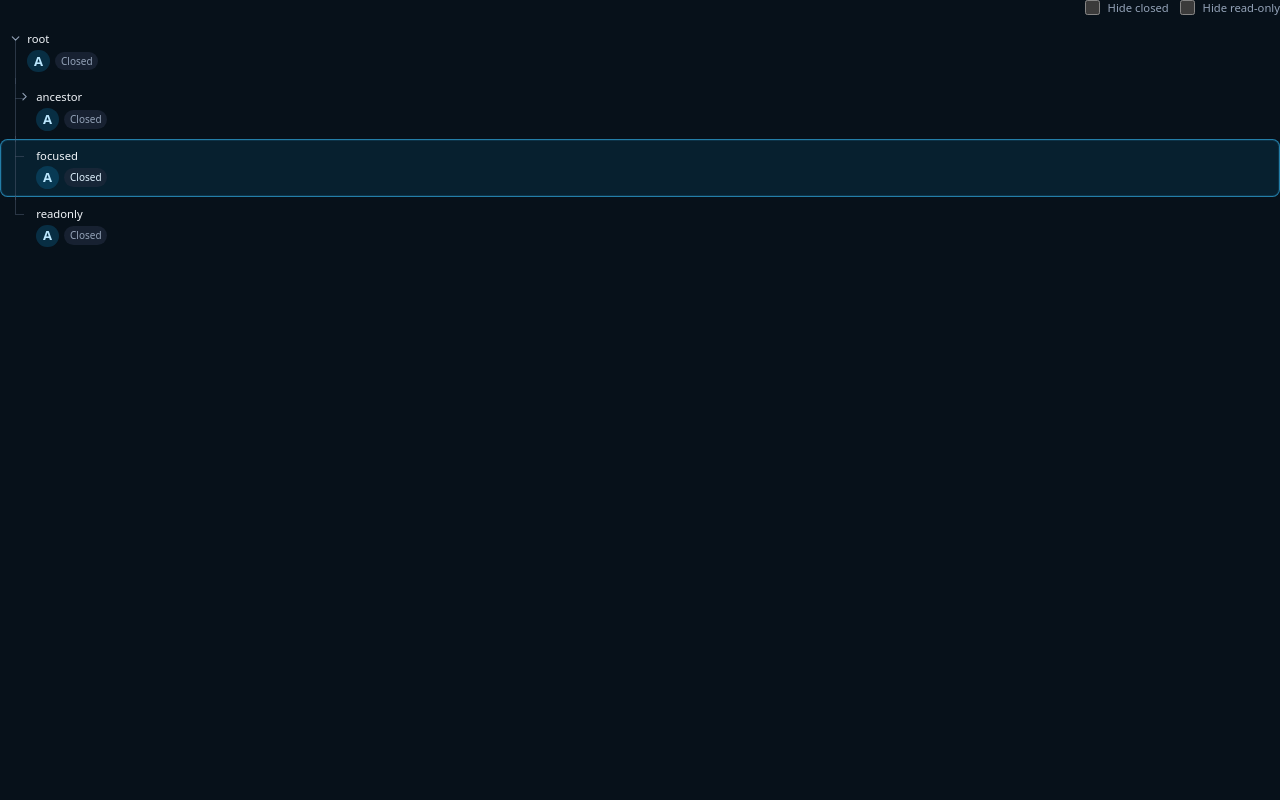
ActivityTree › hides read-only leaves but keeps root, focused sessions, and required ancestors
# root auto-expands because the focused session is its descendant.
What coordinates should you click on to do the following:
click the checkbox labelled "Hide read-only"
I would click on:
 (1188, 8)
Its box is [1180,0,1195,15].
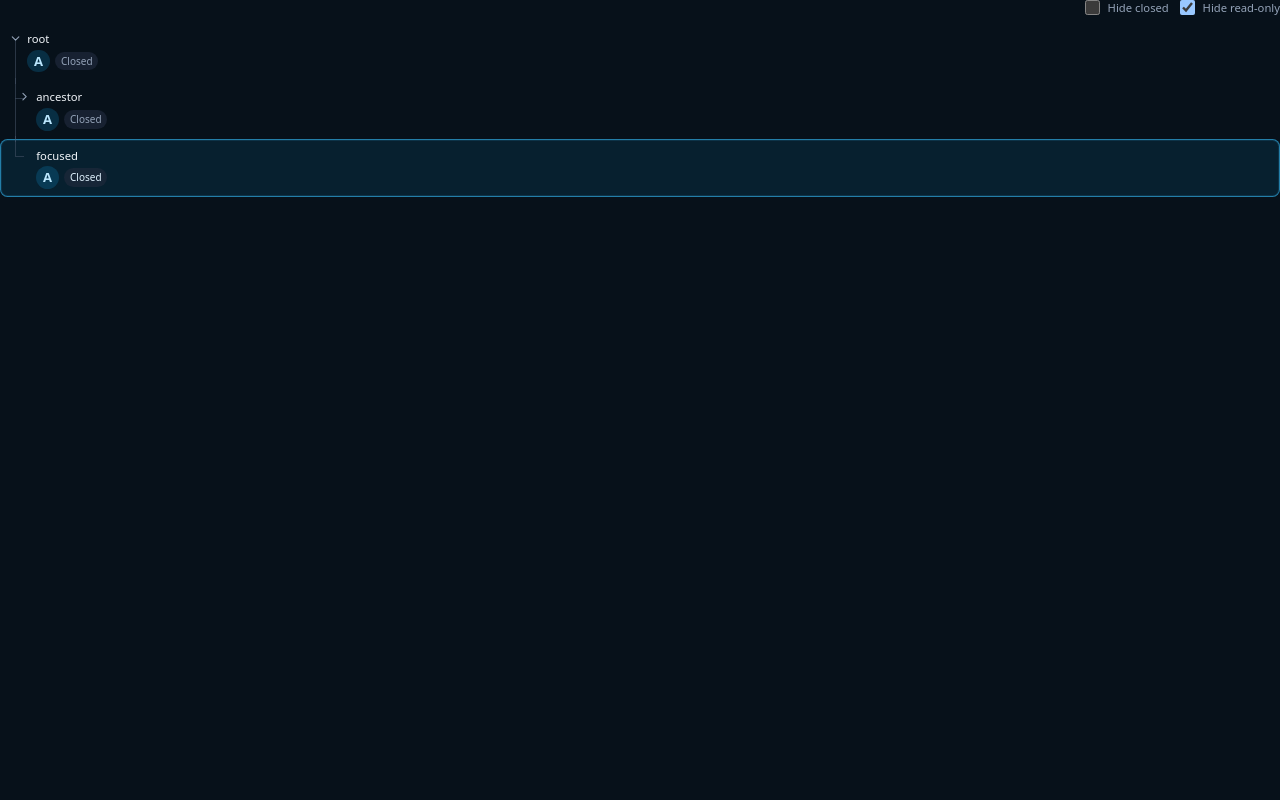
Expected: the list item with test id "activity-node-root" is shown, [0,22,1279,197]
Expected: the list item with test id "activity-node-ancestor" is shown, [0,81,1279,139]
What coordinates should you click on to do the following:
click the button named "Expand ancestor"
I would click on:
 (24, 97)
Its box is [18,90,31,103].
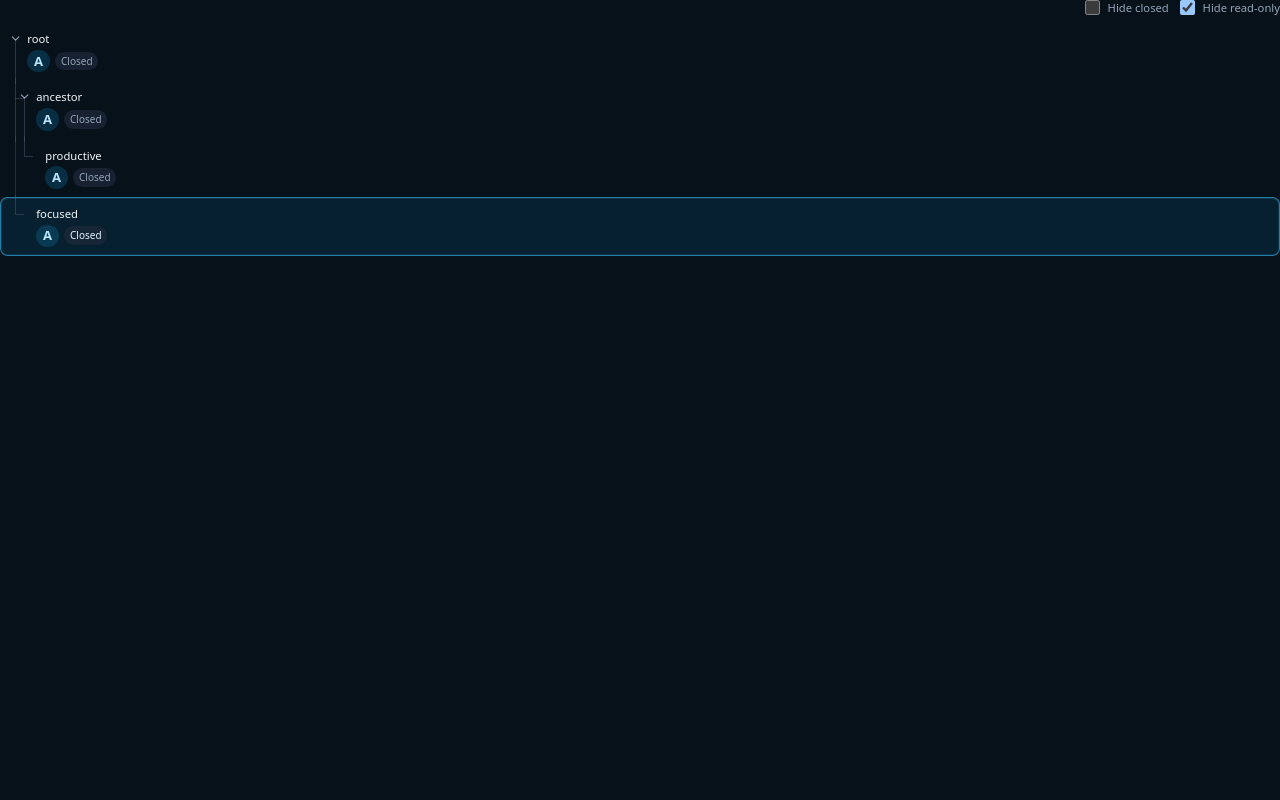
Expected: the list item with test id "activity-node-focused" is shown, [0,197,1279,256]
Now the list item with test id "activity-node-productive" is shown, box [0,139,1279,197]
